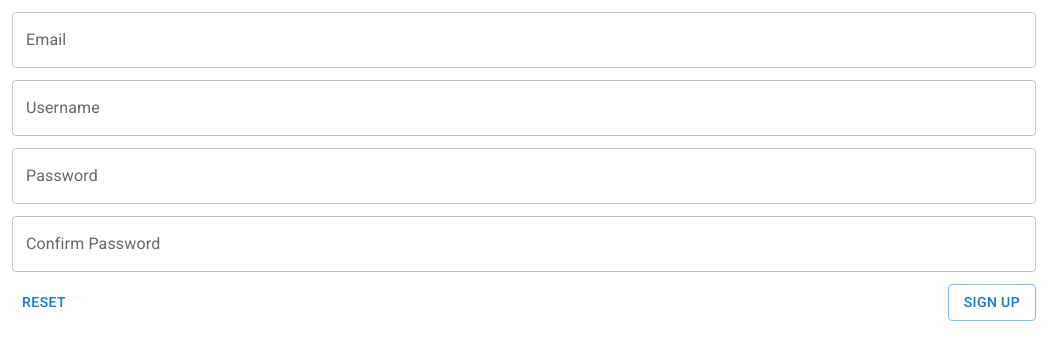
Test case: Register Component Validations › displays error message when email is invalid
# Fill in an invalid email
Type "invalid-email" into the field labelled "Email" at (524, 40), box [12,12,1036,68]
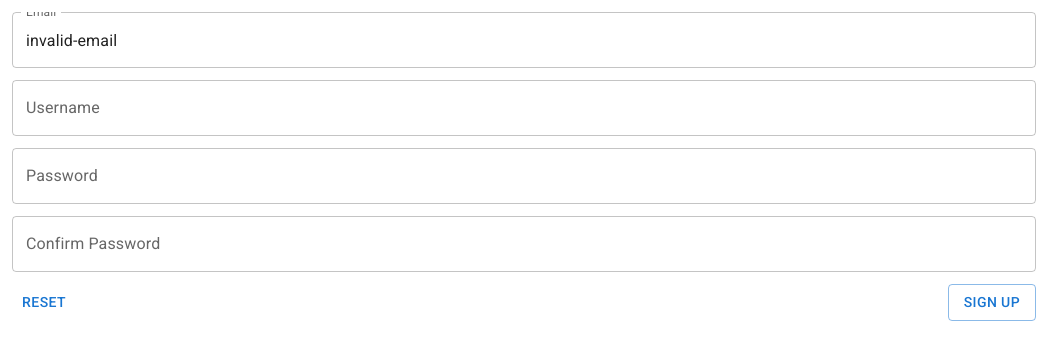
Leave the field labelled "Email", box [12,12,1036,68]
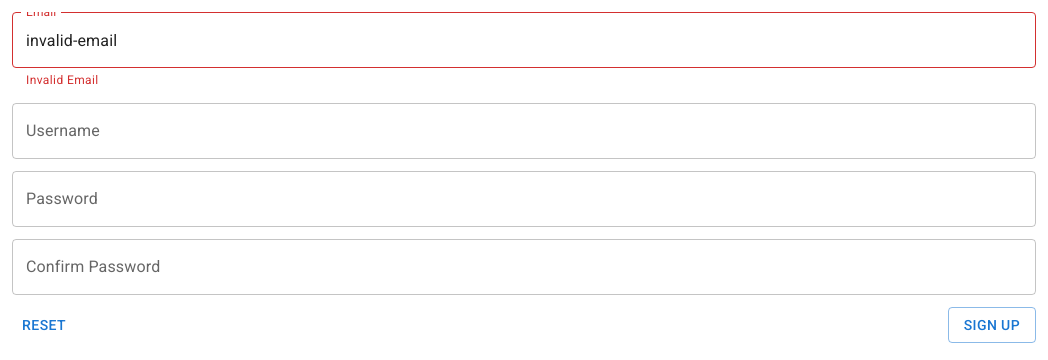
Check: the text "Invalid Email" is shown, box [26,73,99,87]
